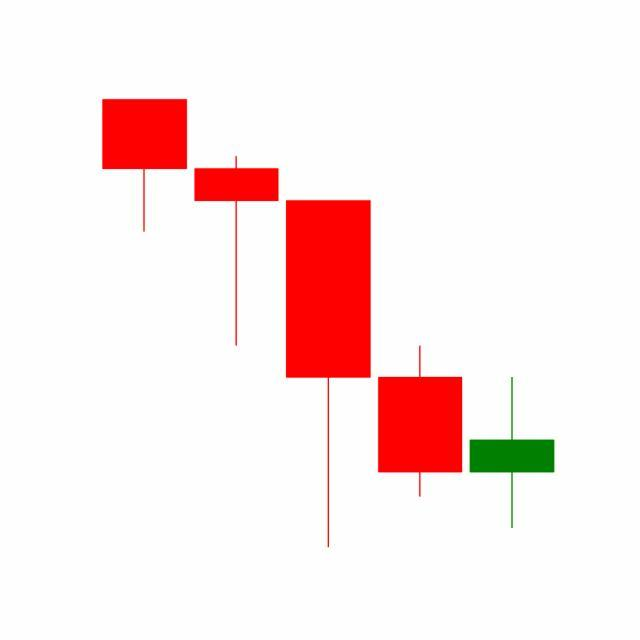Spinning Top: (466, 376, 559, 532)
